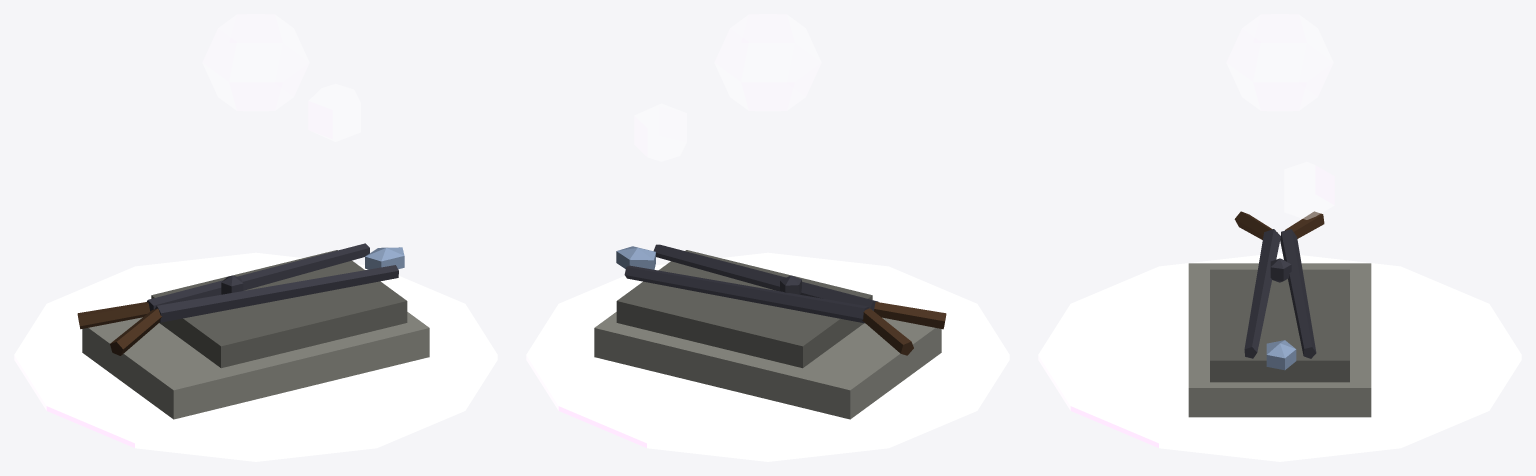
File: prop_keep_tongs.glb
The picture shows the model from 3 angles, left to right: view 1: azimuth 30°, elevation 25°; view 2: azimuth 150°, elevation 25°; view 3: azimuth 270°, elevation 25°; orthographic projection.
Visible parts, largest first — view 1: Glow, prop_keep_tongs; view 2: Glow, prop_keep_tongs; view 3: Glow, prop_keep_tongs.
Part boxes in pixels (x1,y1,x2,y2): Glow: [14, 14, 497, 461]; prop_keep_tongs: [77, 243, 429, 419]; Glow: [526, 14, 1009, 461]; prop_keep_tongs: [594, 244, 946, 419]; Glow: [1038, 14, 1521, 461]; prop_keep_tongs: [1188, 211, 1371, 417].
Size of the model in its own units: 0.9 by 0.72 by 0.9.
